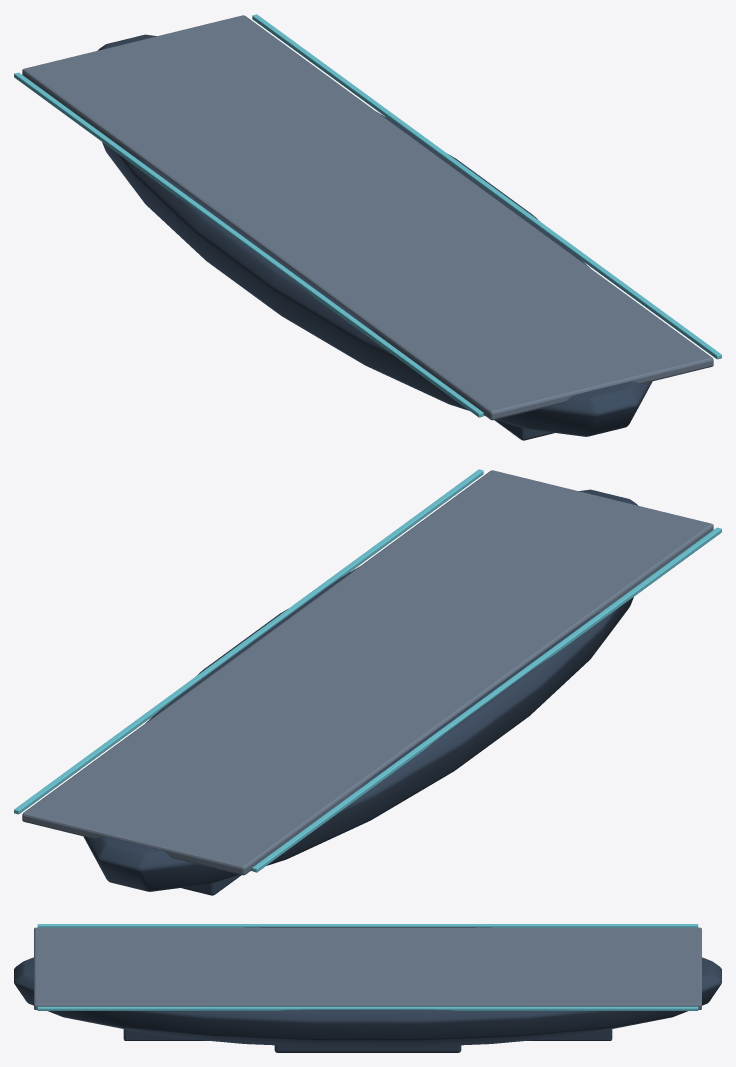
File: Island.fbx
3 renders of one model, top to bottom at view 1: azimuth 30°, elevation 25°; view 2: azimuth 150°, elevation 25°; view 3: azimuth 270°, elevation 25°, orthographic. The views are drawn at different scales.
Visible parts, largest first — view 1: Island; view 2: Island; view 3: Island.
Part boxes in pixels (x1,y1,x2,y2): Island: (14, 14, 721, 440); Island: (14, 469, 721, 895); Island: (14, 924, 721, 1052).
Bounding box in the file's own units: 6.09 × 2.46 × 19.71.
